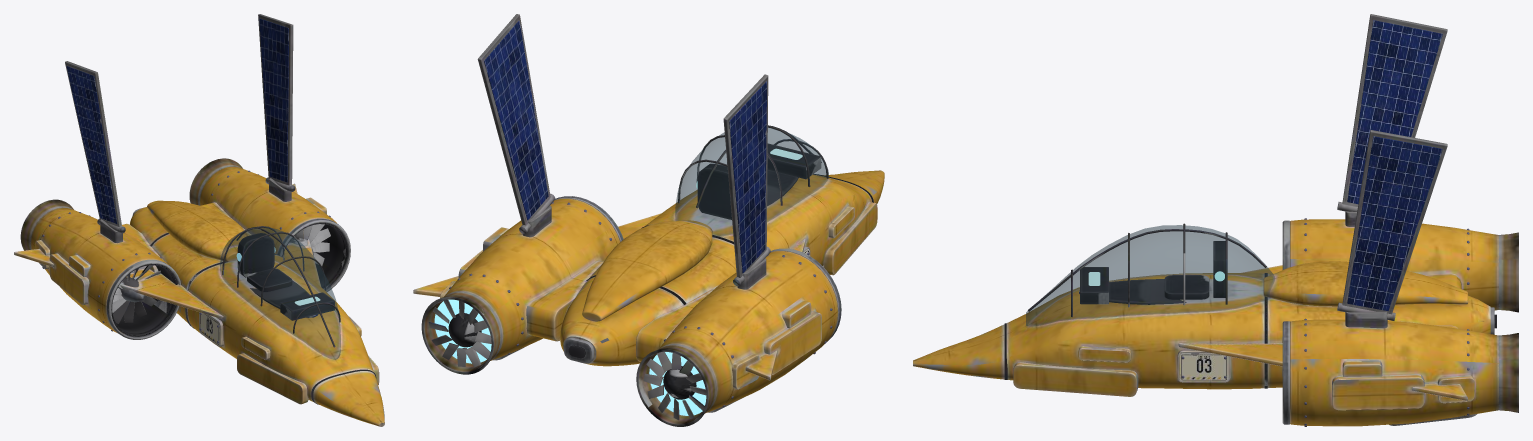
The model's file is solaris.glb.
3 views of the same model, side by side, from view 1: azimuth 30°, elevation 25°; view 2: azimuth 150°, elevation 25°; view 3: azimuth 270°, elevation 25° (orthographic). The views are drawn at different scales.
Visible parts, largest first — view 1: solaris_body, canopy, fan_R, fan_L; view 2: solaris_body, canopy, solaris_emissive; view 3: solaris_body, canopy.
Boxes of the visible parts, bbox=[...] form: solaris_body: bbox=[14, 14, 384, 426]; canopy: bbox=[220, 227, 340, 359]; fan_R: bbox=[112, 265, 160, 323]; fan_L: bbox=[289, 224, 330, 265]; solaris_body: bbox=[413, 14, 884, 426]; canopy: bbox=[675, 127, 828, 237]; solaris_emissive: bbox=[434, 148, 802, 415]; solaris_body: bbox=[913, 14, 1518, 426]; canopy: bbox=[1026, 225, 1274, 326].
Bounding box in the file's own units: 3 × 2.5 × 4.59.
5 materials, 2 textured.
